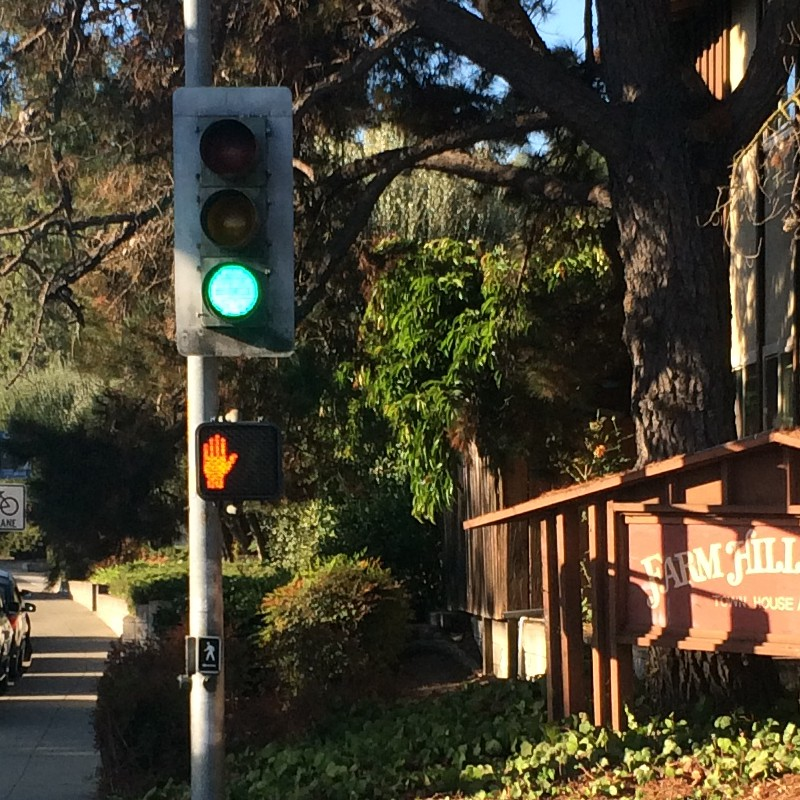stop: (193, 422, 284, 502)
